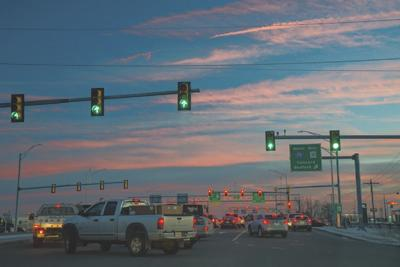International Road Signal Light: (177, 81, 191, 110), (11, 94, 24, 123), (91, 87, 104, 116), (330, 130, 340, 151), (265, 131, 276, 150), (51, 183, 56, 193), (77, 182, 81, 191)
